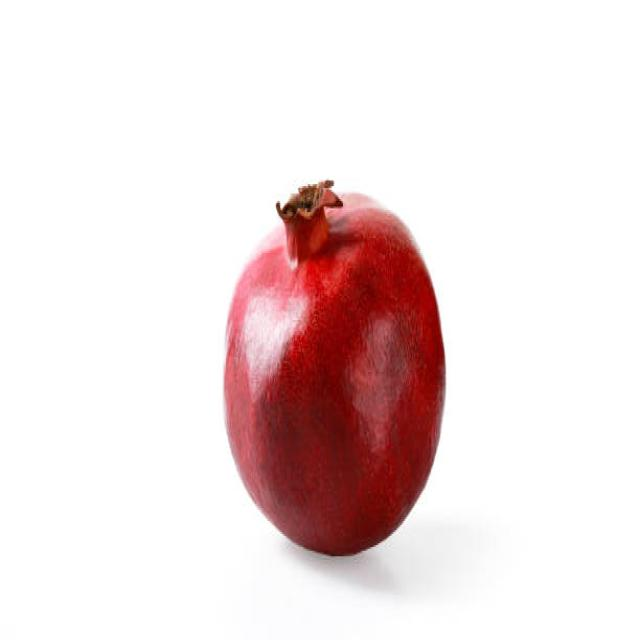Ripe: (218, 162, 447, 556)
